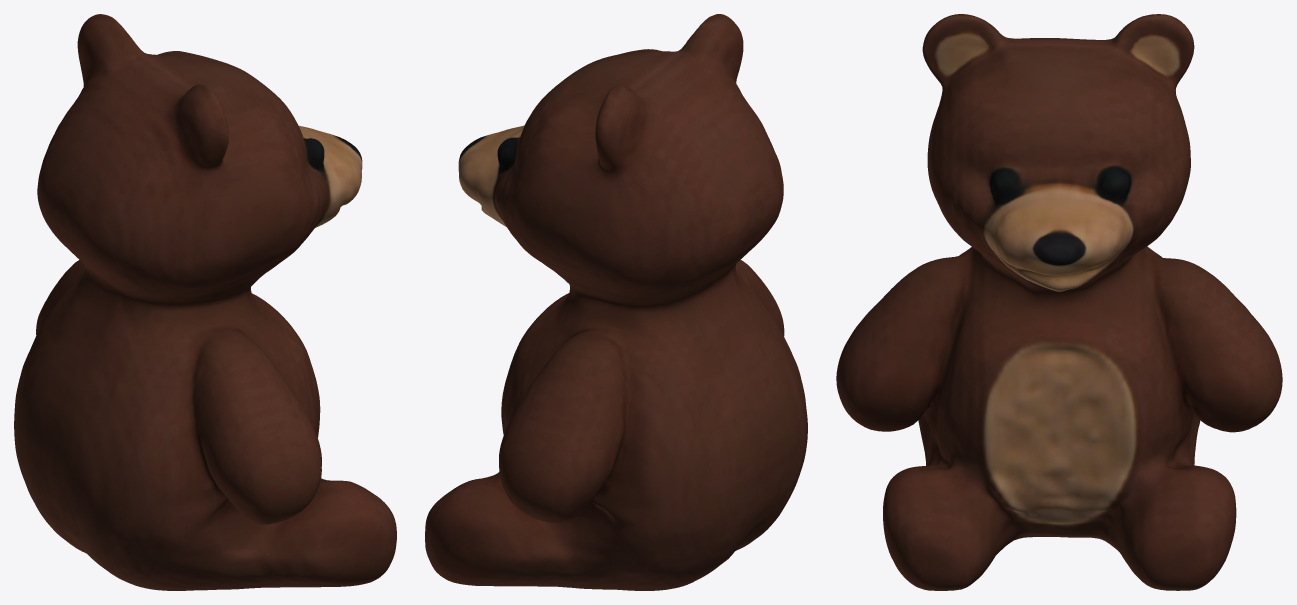
The model's file is 3571e6b8315d_make_a_sitting_brow.fbx.
3 renders of one model, left to right at view 1: azimuth 30°, elevation 25°; view 2: azimuth 150°, elevation 25°; view 3: azimuth 270°, elevation 25°, orthographic.
Parts seen in each view (by area): view 1: high_poly; view 2: high_poly; view 3: high_poly.
Part boxes in pixels (box(x1,y1,x2,y2)): high_poly: box(14, 14, 396, 590); high_poly: box(425, 14, 807, 590); high_poly: box(836, 14, 1282, 590).
Bounding box in the file's own units: 62.91 × 100 × 80.12.
